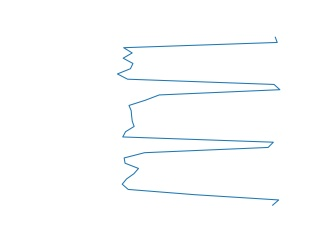majorRiverChannelBar: (114, 36, 285, 206)
